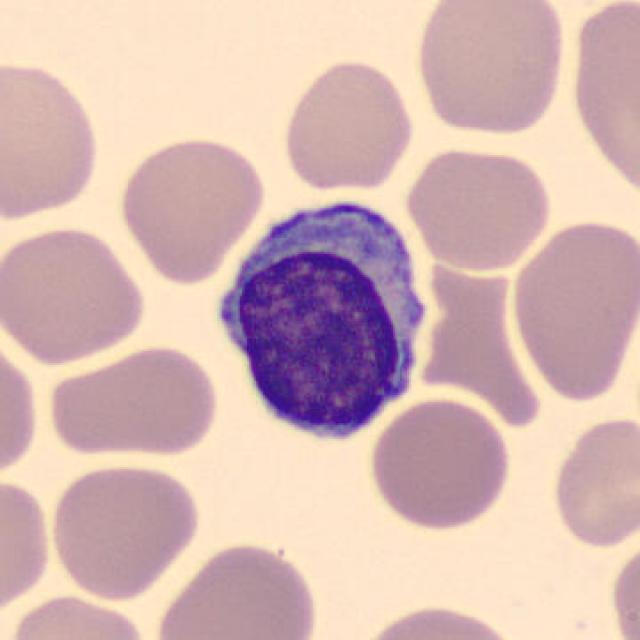Lymphocyte: (204, 187, 436, 451)
RBC: (507, 214, 638, 406), (114, 132, 268, 286), (44, 458, 204, 603), (409, 0, 571, 138), (0, 222, 151, 367), (43, 342, 224, 460), (366, 395, 516, 532), (402, 143, 554, 273), (277, 55, 418, 194), (150, 536, 323, 640), (0, 56, 105, 224), (565, 0, 640, 210), (546, 412, 638, 552), (0, 472, 55, 622), (3, 590, 154, 640), (352, 599, 521, 640), (0, 329, 43, 486), (606, 532, 640, 640)
